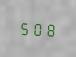eight: (43, 20, 54, 37)
five: (18, 19, 29, 36)
zero: (31, 19, 42, 37)
